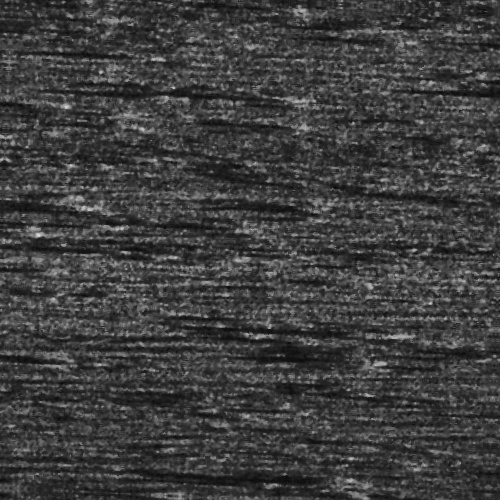object: (314, 321, 429, 330), (183, 221, 236, 230), (346, 469, 377, 478), (248, 92, 289, 97), (43, 210, 84, 215)
shadow: (179, 469, 361, 478), (65, 221, 209, 230), (228, 321, 371, 330), (53, 92, 269, 97), (419, 72, 500, 83), (223, 353, 366, 356), (0, 210, 63, 215)
